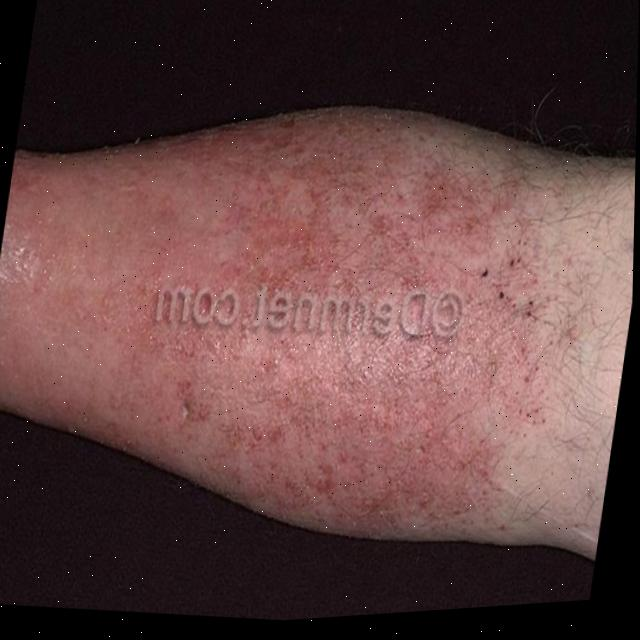Eczema: (91, 85, 600, 526)
